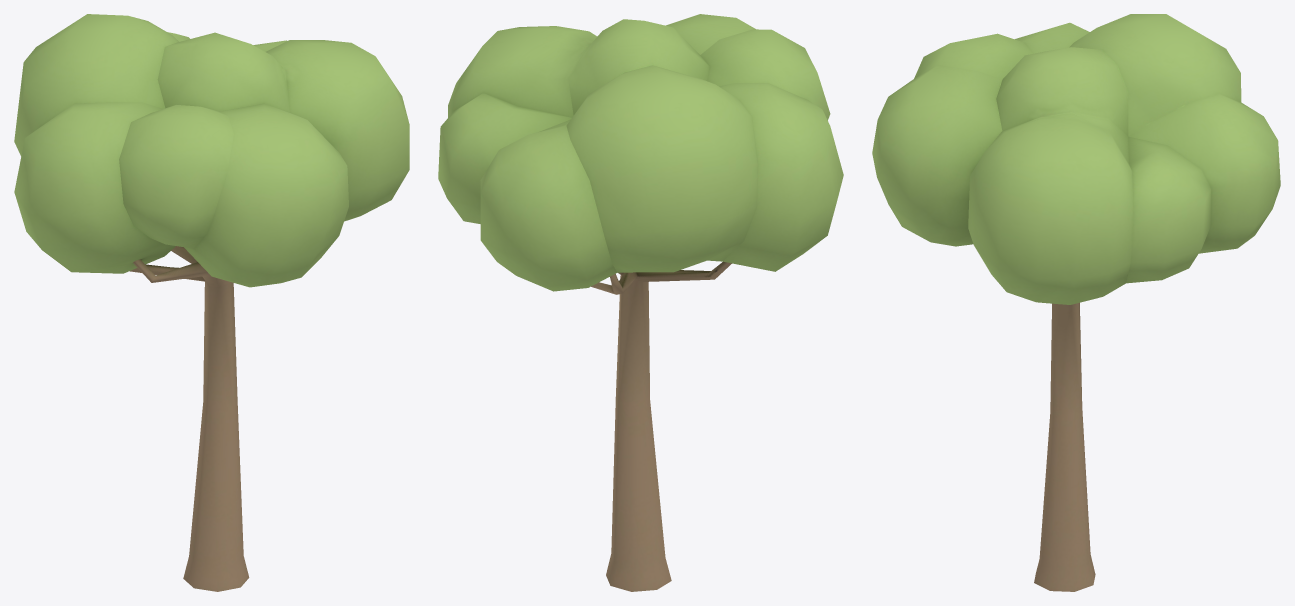
File: tree_d.glb
The picture shows the model from 3 angles, left to right: view 1: azimuth 30°, elevation 25°; view 2: azimuth 150°, elevation 25°; view 3: azimuth 270°, elevation 25°; orthographic projection. The views are drawn at different scales.
Parts seen in each view (by area): view 1: tree.001; view 2: tree.001; view 3: tree.001.
Boxes of the visible parts, x1=… form: tree.001: x1=14, y1=14, x2=409, y2=591; tree.001: x1=438, y1=14, x2=843, y2=591; tree.001: x1=872, y1=14, x2=1280, y2=591.
Size of the model in its own units: 14.19 by 20 by 14.07.
Materials: 1 (1 with a texture image).
